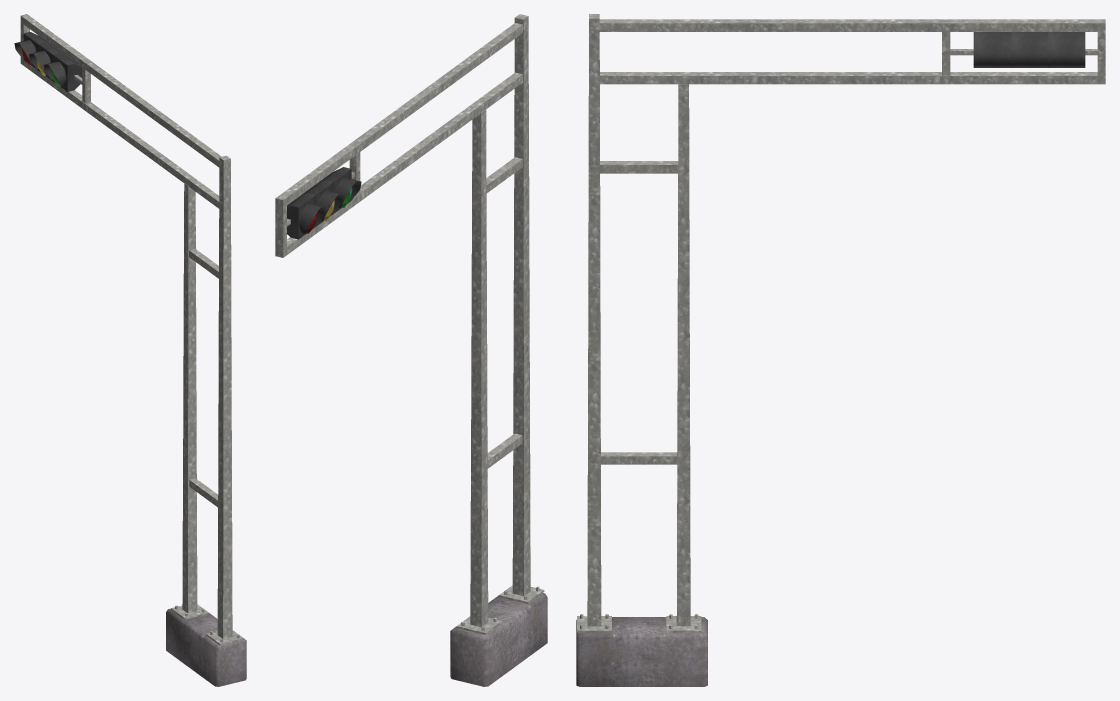
Rendered from Semaforo.fbx.
3 renders of one model, left to right at view 1: azimuth 30°, elevation 25°; view 2: azimuth 150°, elevation 25°; view 3: azimuth 270°, elevation 25°, orthographic. The views are drawn at different scales.
Visible parts, largest first — view 1: Traffic_light.002; view 2: Traffic_light.002; view 3: Traffic_light.002.
Boxes of the visible parts, <box> form: Traffic_light.002: <box>14,14,246,686</box>; Traffic_light.002: <box>275,14,547,686</box>; Traffic_light.002: <box>576,14,1105,686</box>.
Bounding box in the file's own units: 10.64 × 109 × 150.
3 materials, 3 textured.
